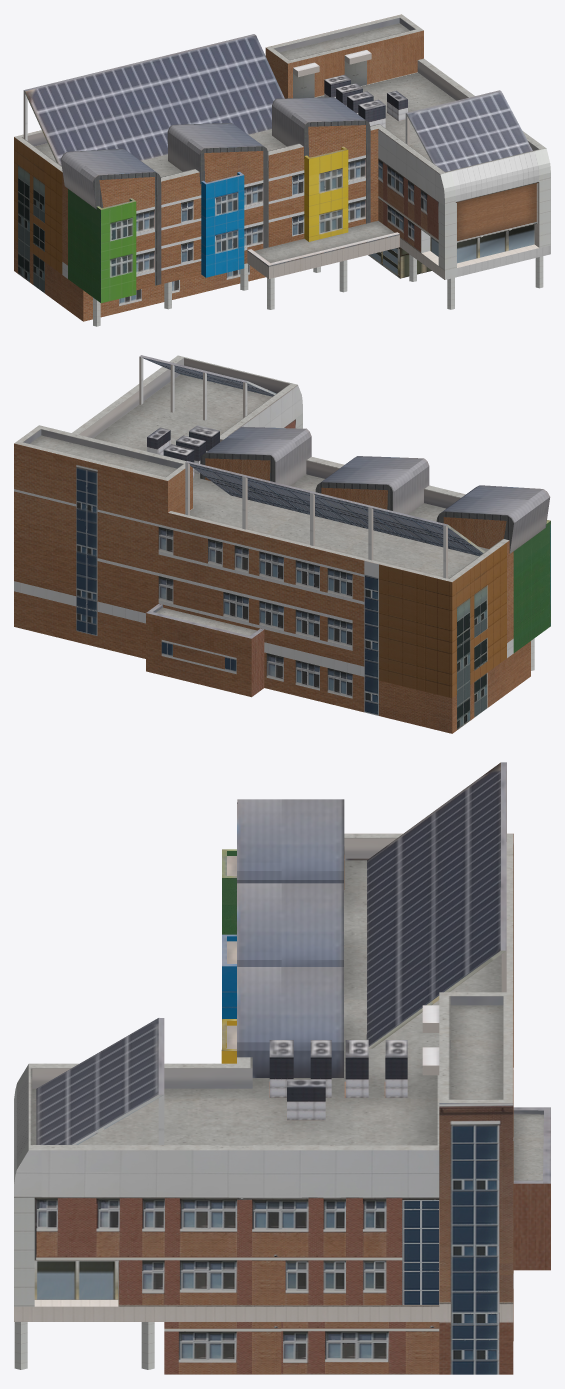
3 views of the same model, one above another, from view 1: azimuth 30°, elevation 25°; view 2: azimuth 150°, elevation 25°; view 3: azimuth 270°, elevation 25° (orthographic). The views are drawn at different scales.
Parts seen in each view (by area): view 1: MainBuilding; view 2: MainBuilding; view 3: MainBuilding.
Part boxes in pixels (box(x1,y1,x2,y2)): MainBuilding: box(14, 14, 550, 326); MainBuilding: box(14, 355, 550, 733); MainBuilding: box(14, 762, 550, 1374).
Size of the model in its own units: 4.04 by 1.78 by 2.87.
1 material, 1 textured.
